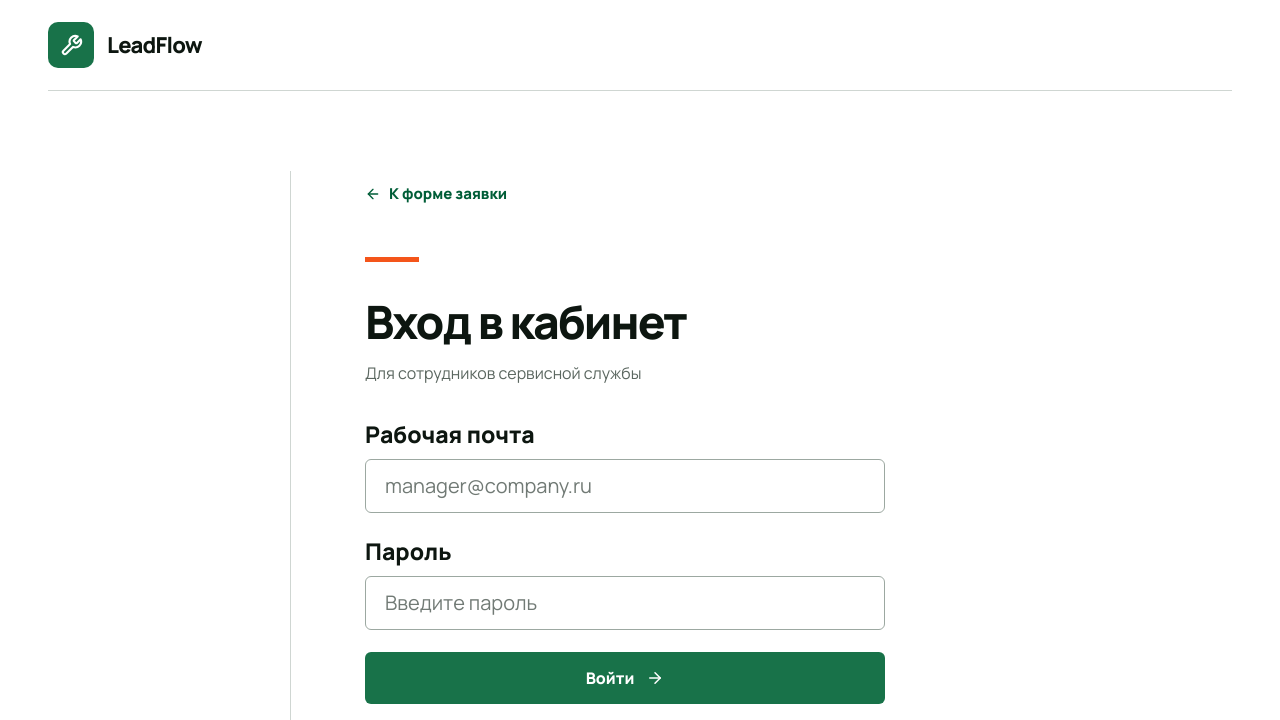
Test: protected route login return path › returns a user who opened a protected detail URL to that same lead after login
Check: the heading "Вход в кабинет" is shown, box [365,290,686,352]
Type "manager@example.com" into the field labelled "Рабочая почта" at [625, 486], box [365,458,885,512]
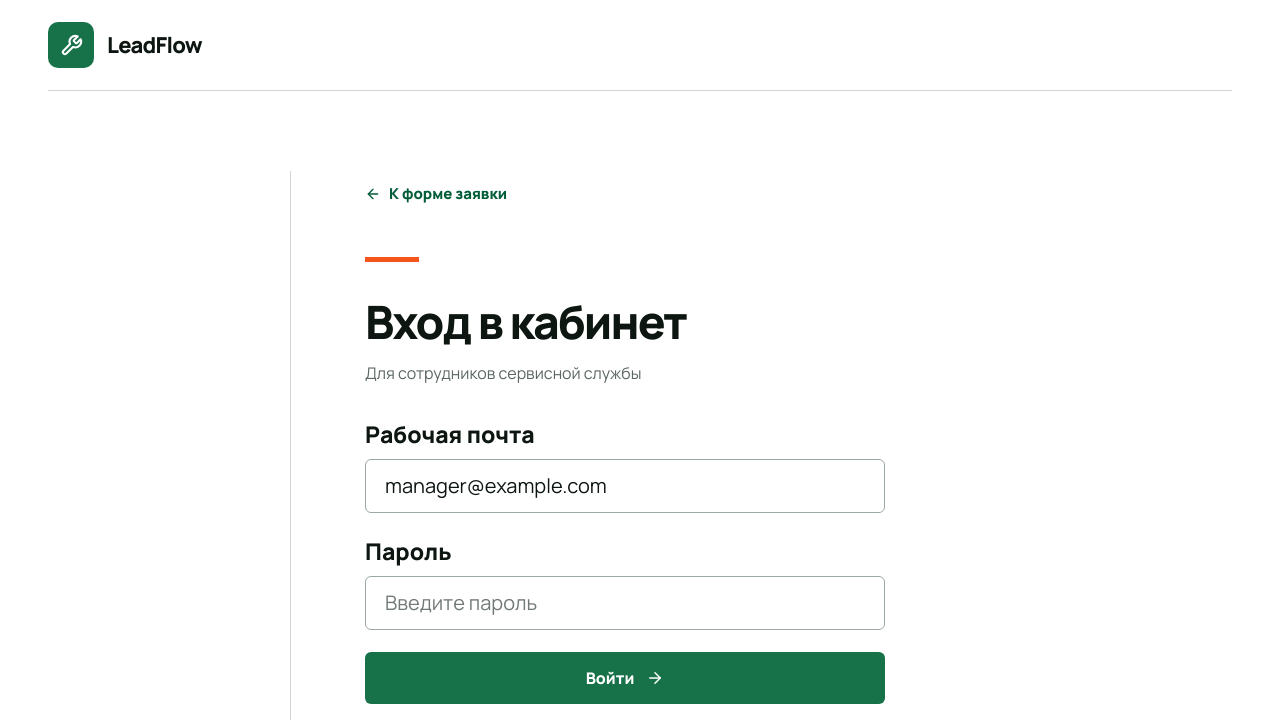
Type "password" into the password field labelled "Пароль" at [625, 602], box [365,576,885,630]
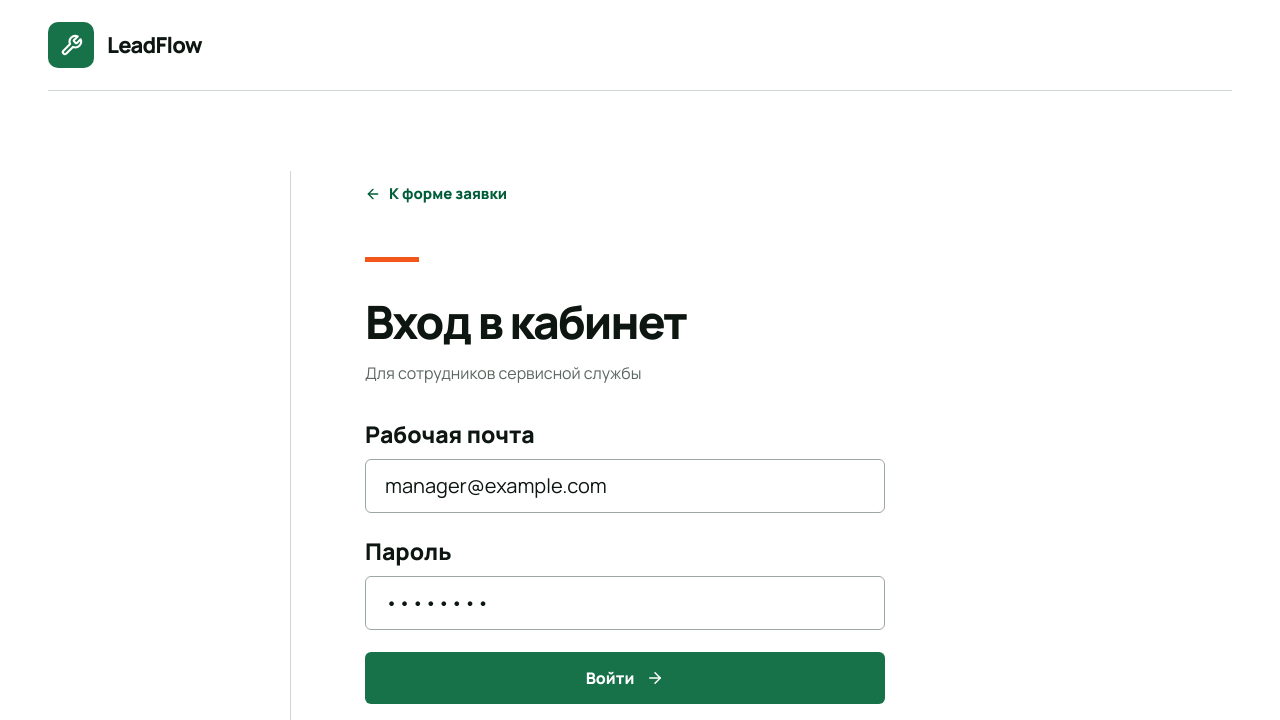
Click the button "Войти" at [625, 678], box [365,652,885,704]
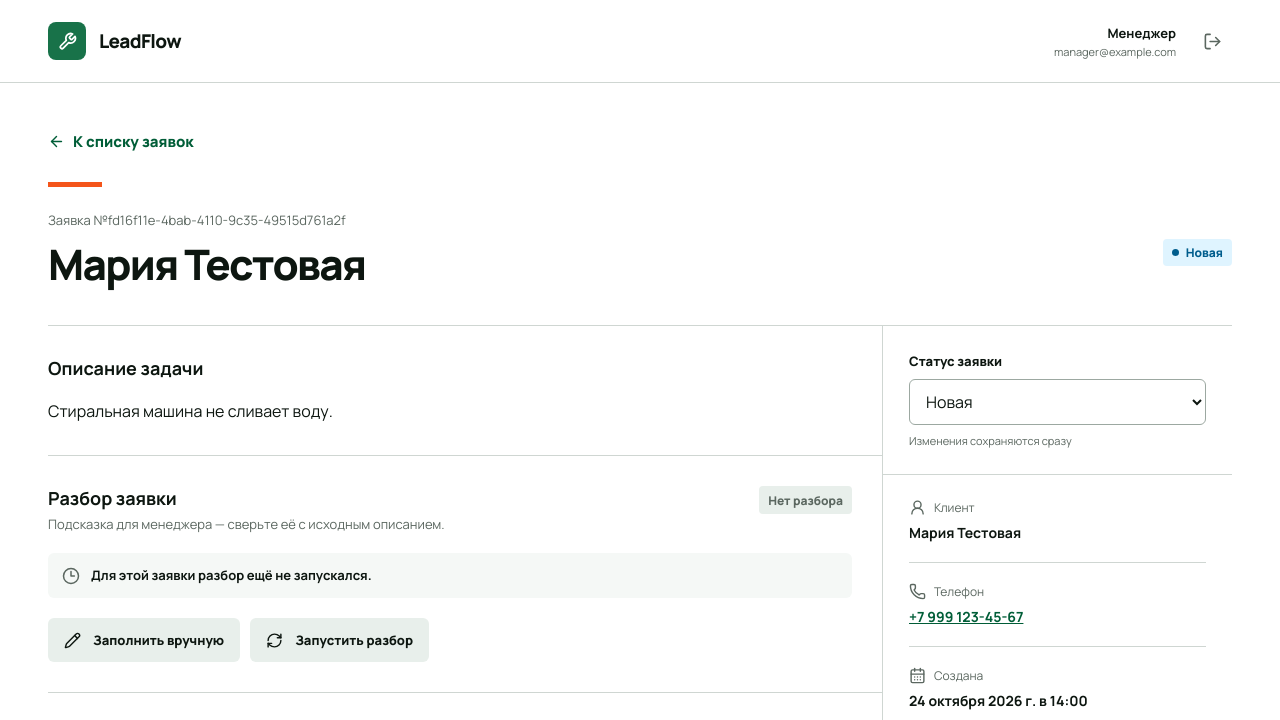
Check: the heading "Мария Тестовая" is shown, box [48,235,365,293]
